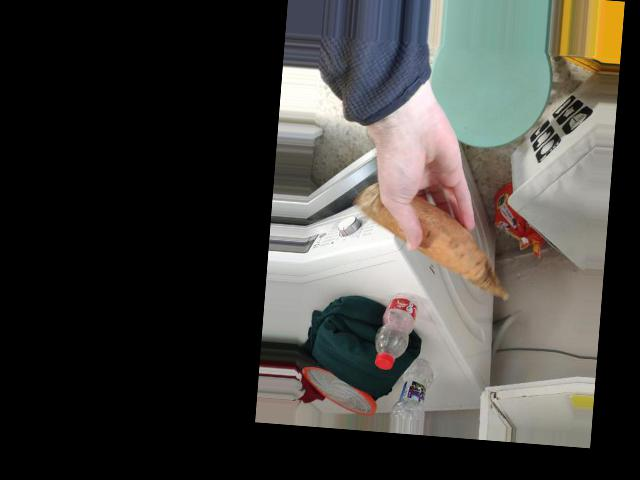sweet_potato: (388, 195, 479, 285)
